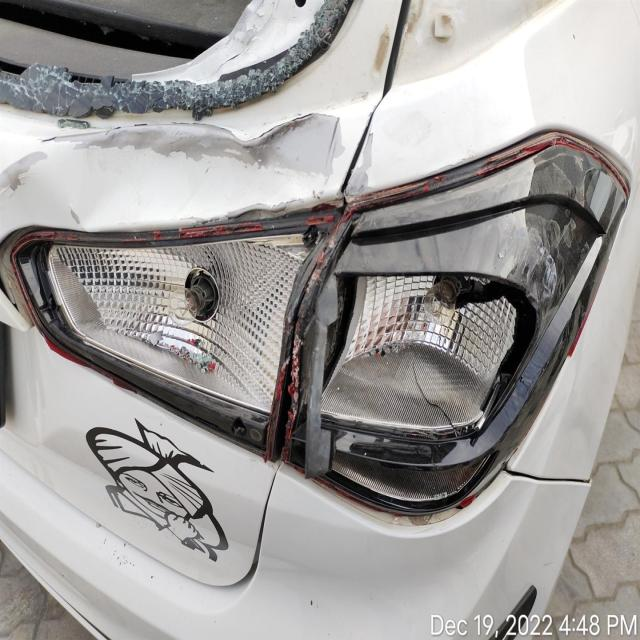damage: (306, 137, 612, 514), (0, 0, 354, 119), (2, 111, 343, 198), (369, 4, 492, 90)
